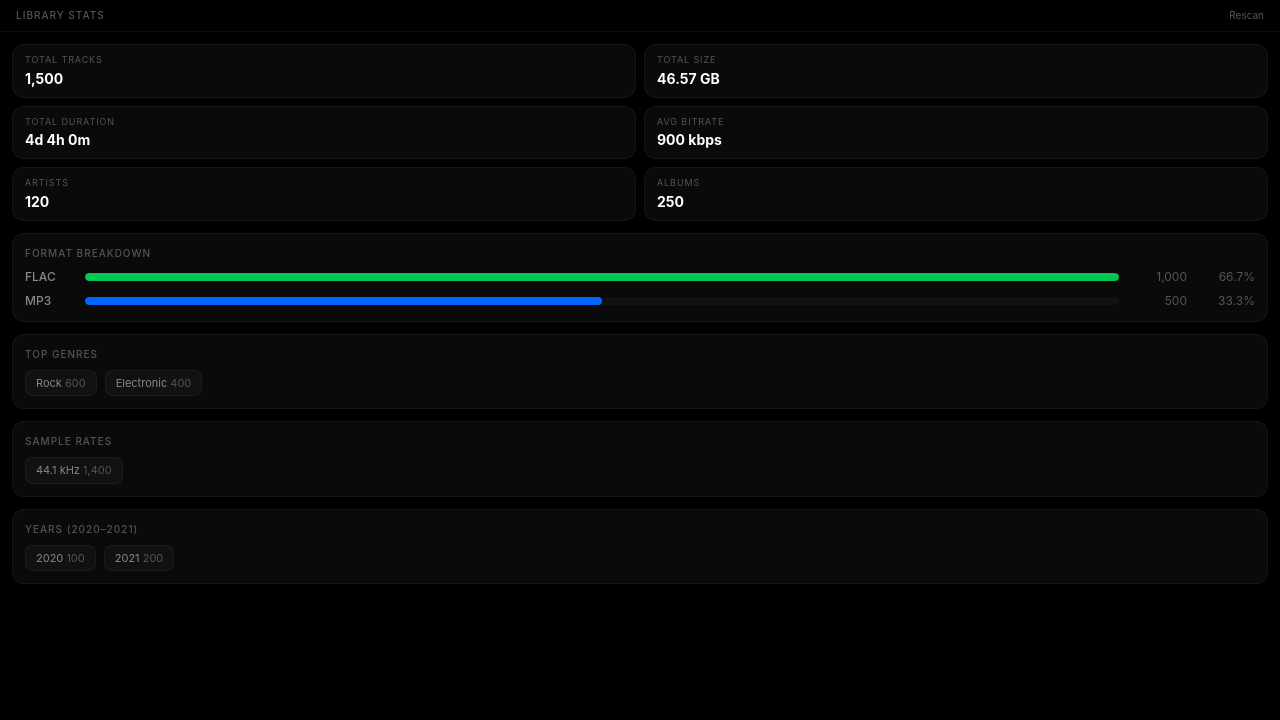
Test case: stats drill-down › opens detail modal when genre tag is clicked
Click the button "Rock 600": (61, 383) top-left (25, 370), bottom-right (97, 396)
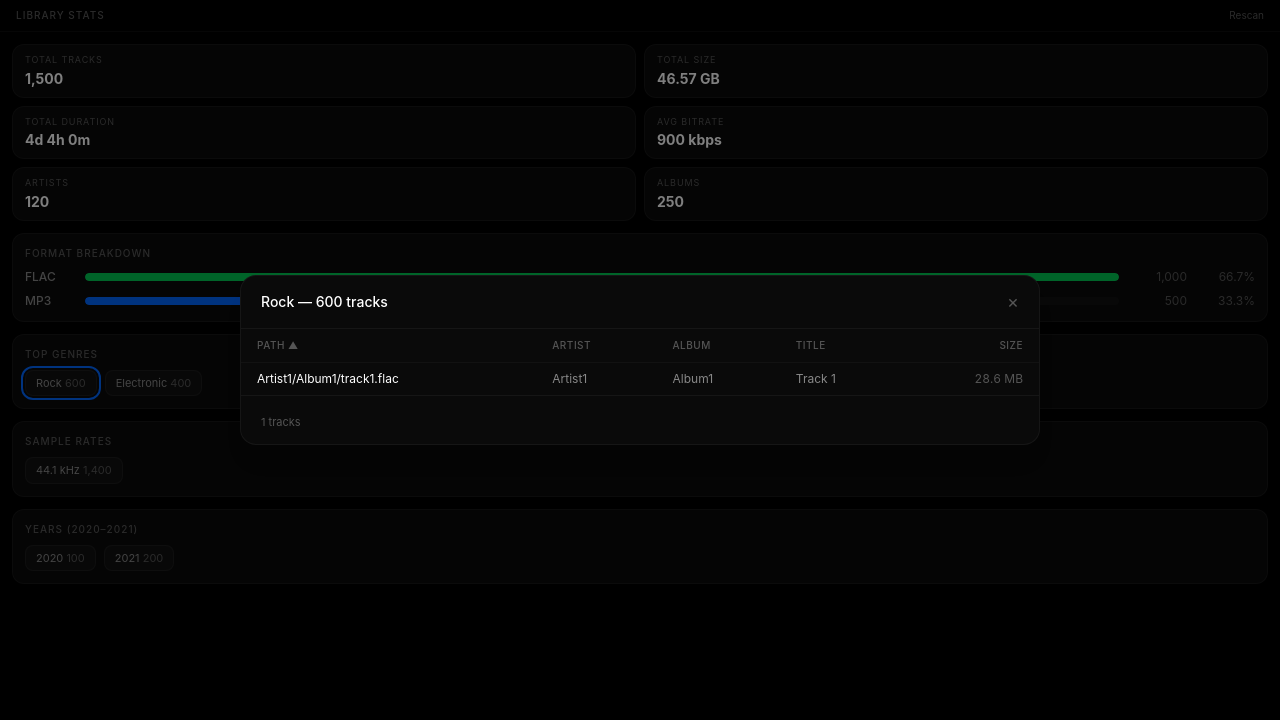
Expected: the heading "Rock — 600 tracks" is shown, top-left (261, 292), bottom-right (388, 312)
